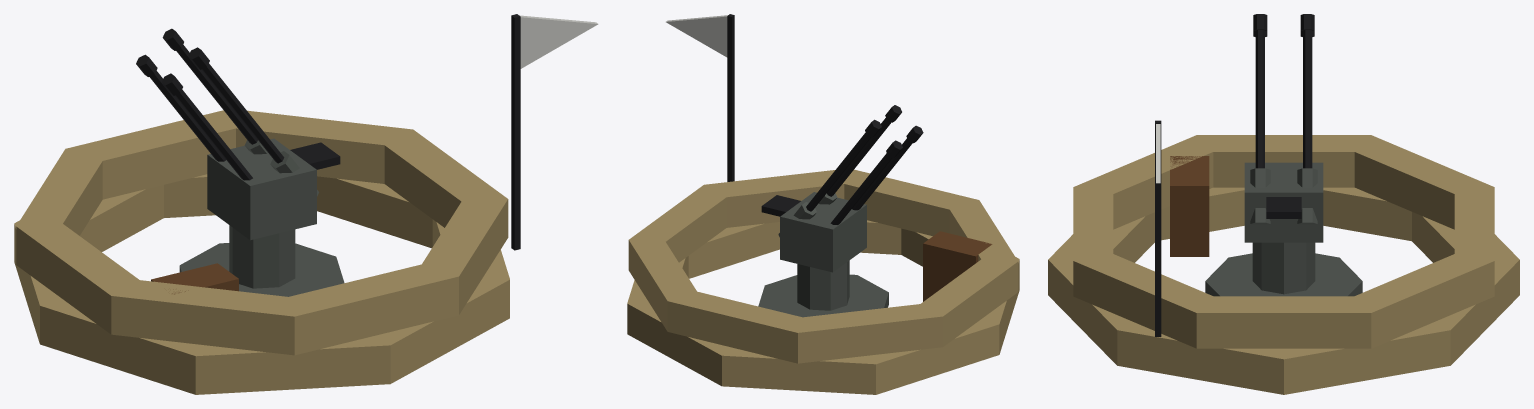
File: aa_gun.glb
The picture shows the model from 3 angles, left to right: view 1: azimuth 30°, elevation 25°; view 2: azimuth 150°, elevation 25°; view 3: azimuth 270°, elevation 25°; orthographic projection. The views are drawn at different scales.
Parts seen in each view (by area): view 1: AntiAircraftGun; view 2: AntiAircraftGun; view 3: AntiAircraftGun.
Boxes of the visible parts, <box> form: AntiAircraftGun: <box>14,14,598,394</box>; AntiAircraftGun: <box>627,14,1019,394</box>; AntiAircraftGun: <box>1048,14,1519,394</box>.
Size of the model in its own units: 6.6 by 3.6 by 6.
